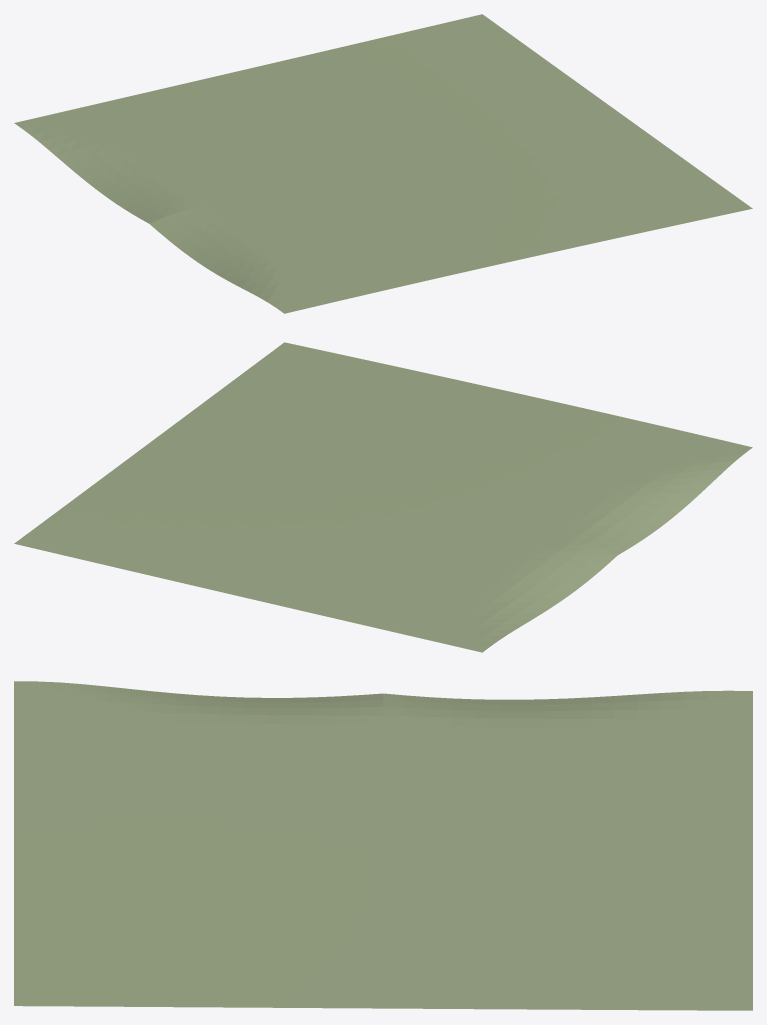
File: gardens-7-0.glb
3 views of the same model, one above another, from view 1: azimuth 30°, elevation 25°; view 2: azimuth 150°, elevation 25°; view 3: azimuth 270°, elevation 25° (orthographic). The views are drawn at different scales.
Parts seen in each view (by area): view 1: gardens-7-0; view 2: gardens-7-0; view 3: gardens-7-0.
Boxes of the visible parts, left/top/right/bottom form: gardens-7-0: left=14, top=14, right=752, bottom=313; gardens-7-0: left=14, top=342, right=752, bottom=652; gardens-7-0: left=14, top=681, right=752, bottom=1010.
Size of the model in its own units: 256 by 7.09 by 256.
